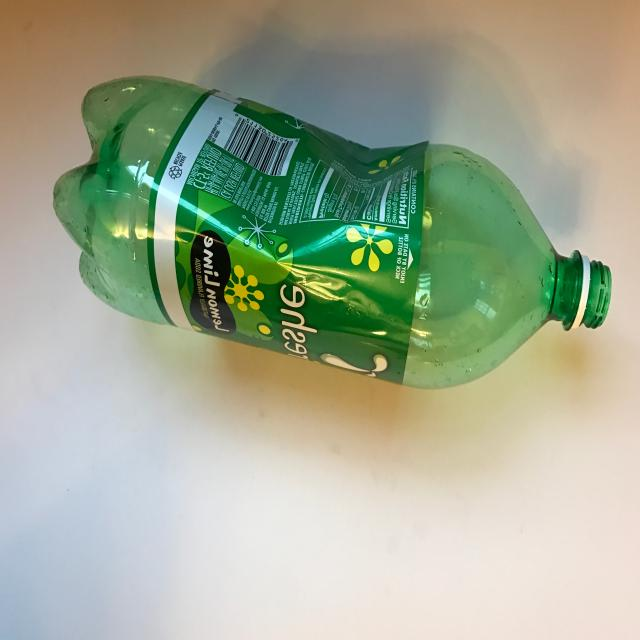plastic: (53, 73, 612, 390)
